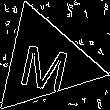M_N: (16, 32, 73, 92)
